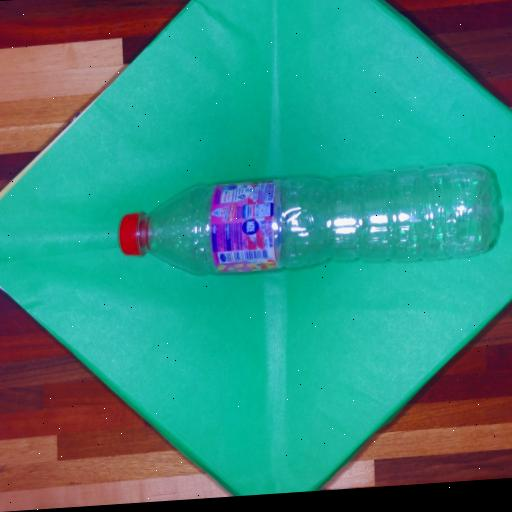bottle: (119, 165, 497, 275)
